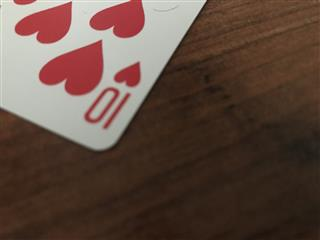TenOfHearts: (1, 1, 207, 152)
